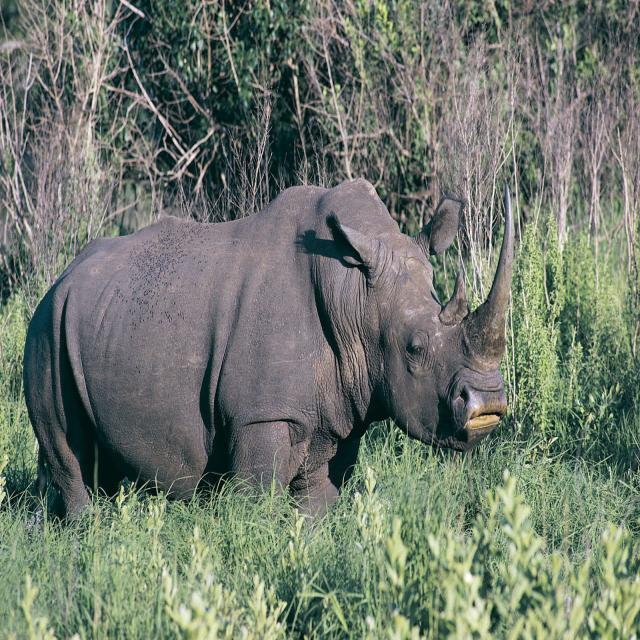rhinoceros: (24, 179, 514, 516)
